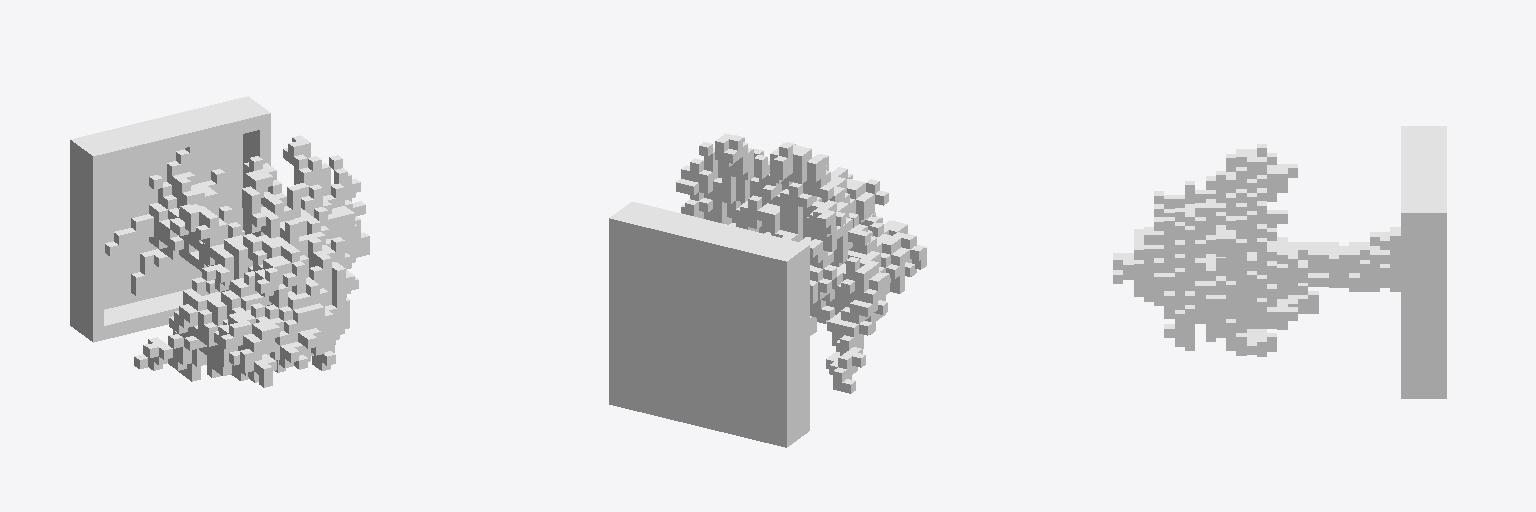
Rendered from Tree-0.obj.
3 renders of one model, left to right at view 1: azimuth 30°, elevation 25°; view 2: azimuth 150°, elevation 25°; view 3: azimuth 270°, elevation 25°, orthographic.
Parts seen in each view (by area): view 1: object 1; view 2: object 1; view 3: object 1.
Boxes of the visible parts, box(x1,y1,x2,y2) form: object 1: box(70, 96, 369, 387); object 1: box(609, 133, 926, 447); object 1: box(1113, 126, 1446, 398).
Bounding box in the file's own units: 92 × 91 × 130.